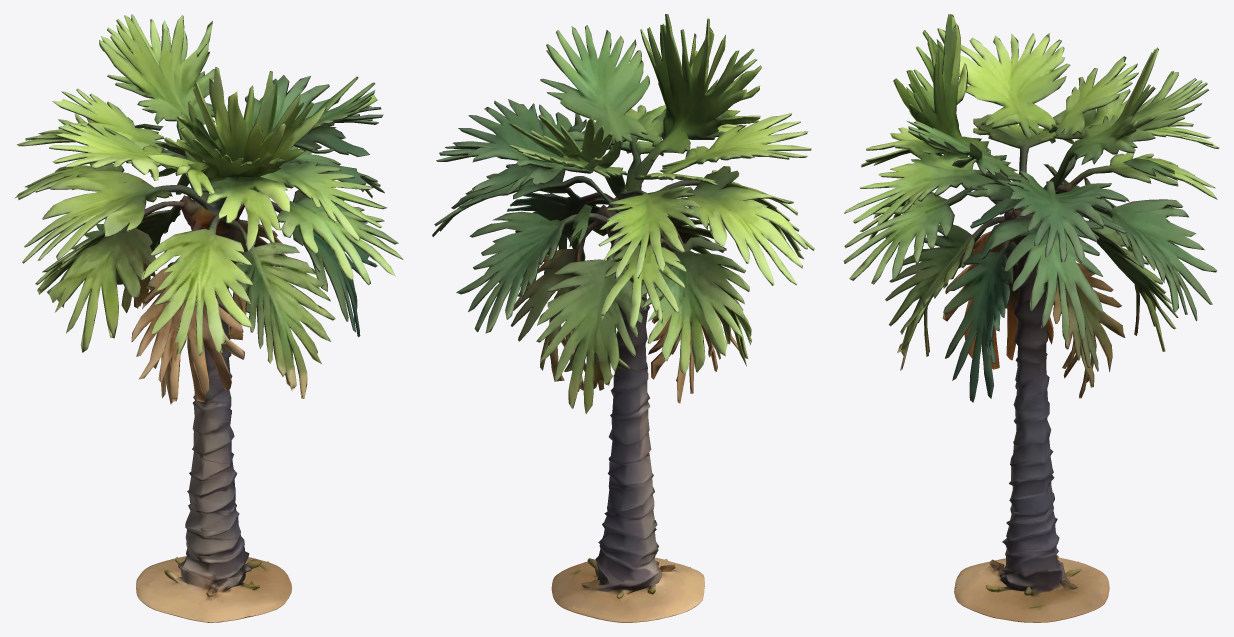
File: palm.glb
The picture shows the model from 3 angles, left to right: view 1: azimuth 30°, elevation 25°; view 2: azimuth 150°, elevation 25°; view 3: azimuth 270°, elevation 25°; orthographic projection.
Parts seen in each view (by area): view 1: tripo_node_e8a3fa86-9100-433b-8412-d989d6f172ff; view 2: tripo_node_e8a3fa86-9100-433b-8412-d989d6f172ff; view 3: tripo_node_e8a3fa86-9100-433b-8412-d989d6f172ff.
Part boxes in pixels (x1,y1,x2,y2): tripo_node_e8a3fa86-9100-433b-8412-d989d6f172ff: (14, 14, 403, 622); tripo_node_e8a3fa86-9100-433b-8412-d989d6f172ff: (432, 14, 814, 622); tripo_node_e8a3fa86-9100-433b-8412-d989d6f172ff: (843, 14, 1219, 622).
Size of the model in its own units: 0.6681 by 1 by 0.6121.
1 material, 1 textured.
